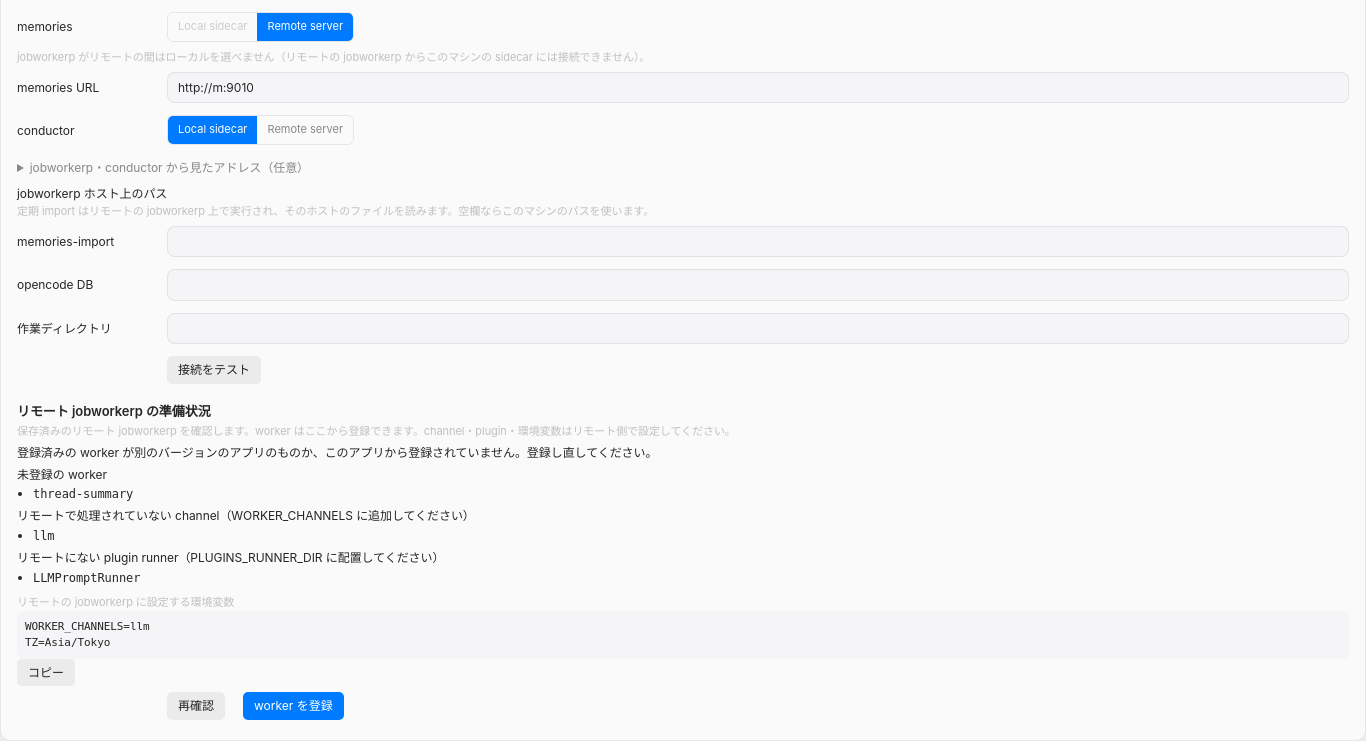
Scenario: ConnectionCard › shows registration warnings
(page scrolled)
Expected: the text "thread-summary" is shown, [33,487,133,501]
Click the button "worker を登録": [293, 706] box [243,692,344,720]
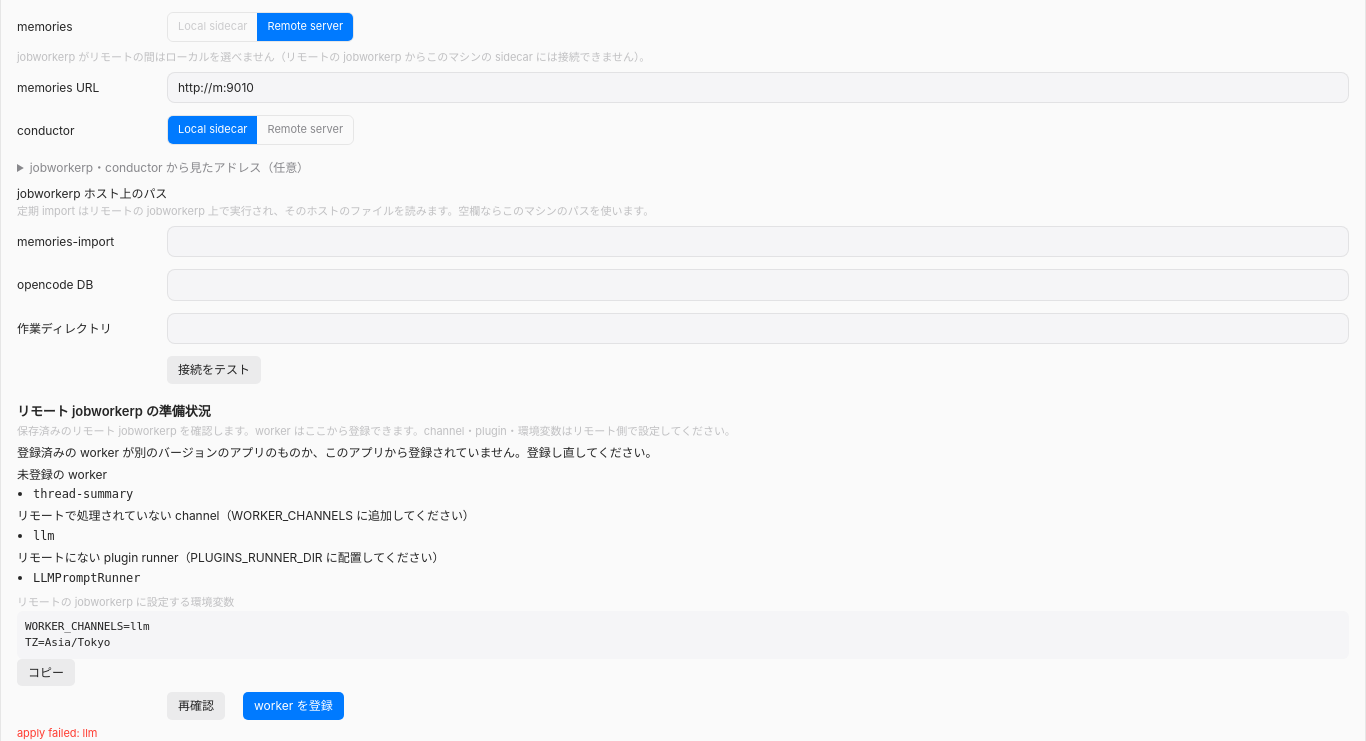
Expected: the text "apply failed: llm" is shown, [17,726,97,740]
